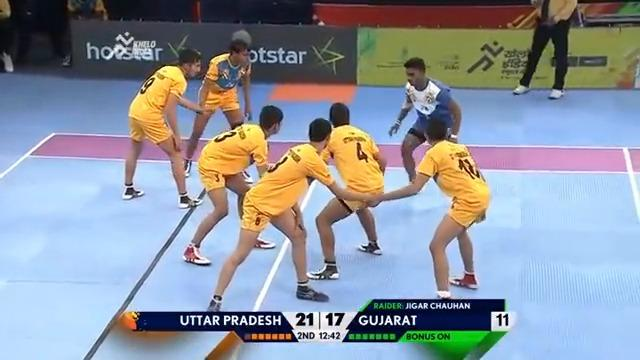Player: (205, 117, 377, 311), (357, 114, 491, 298), (181, 104, 284, 265), (305, 102, 387, 280), (120, 45, 205, 208), (181, 29, 253, 179)
Raider: (387, 56, 462, 185)
referee: (511, 0, 577, 99), (11, 0, 73, 68)
